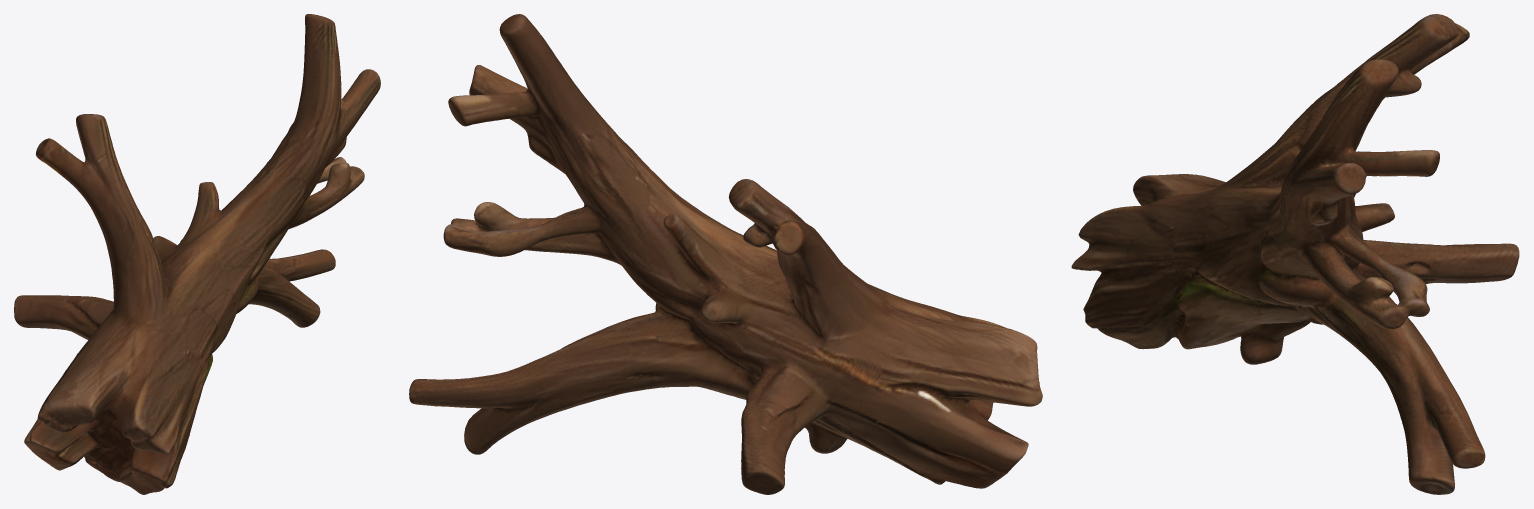
Rendered from FallenBranch_Wet.fbx.
3 renders of one model, left to right at view 1: azimuth 30°, elevation 25°; view 2: azimuth 150°, elevation 25°; view 3: azimuth 270°, elevation 25°, orthographic. The views are drawn at different scales.
Parts seen in each view (by area): view 1: mesh_node.004; view 2: mesh_node.004; view 3: mesh_node.004.
Part boxes in pixels (x1,y1,x2,y2): mesh_node.004: [14, 14, 380, 494]; mesh_node.004: [409, 14, 1042, 494]; mesh_node.004: [1071, 14, 1519, 494].
Size of the model in its own units: 50.37 by 42.52 by 37.8.
